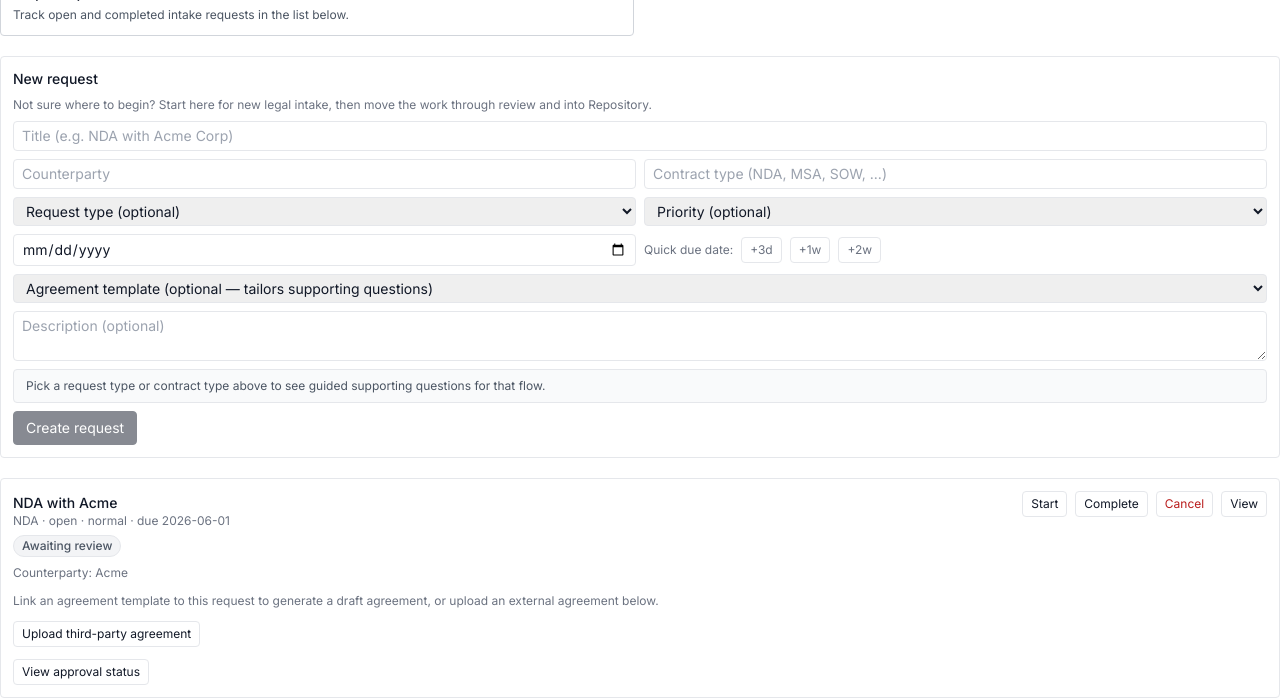
it: RequestsPage › renders a safe error state when the approval-status fetch fails
(page scrolled)
expect the link "NDA with Acme" is shown: met, box top-left (13, 494), bottom-right (118, 511)
Click the button with test id "request-approval-toggle" at coordinates (81, 672), box top-left (13, 659), bottom-right (149, 685)
(page scrolled)
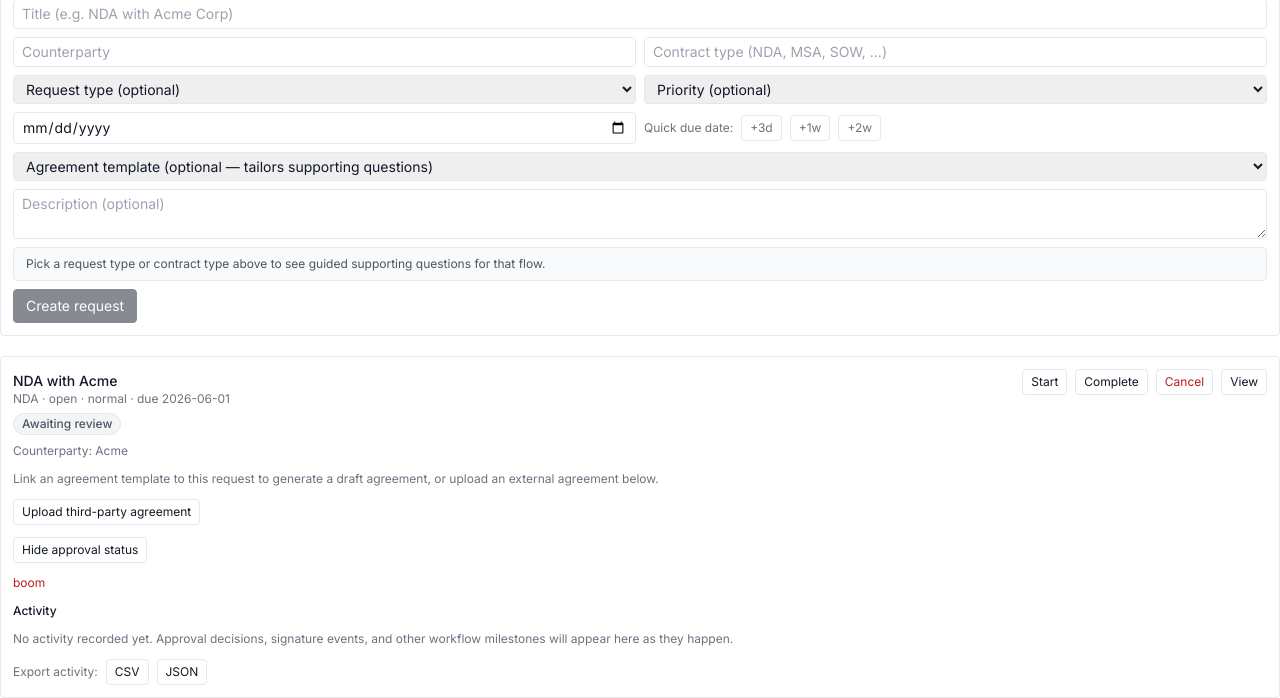
expect the text with test id "request-approval-status-error" reads "boom": met, box top-left (13, 575), bottom-right (45, 590)
